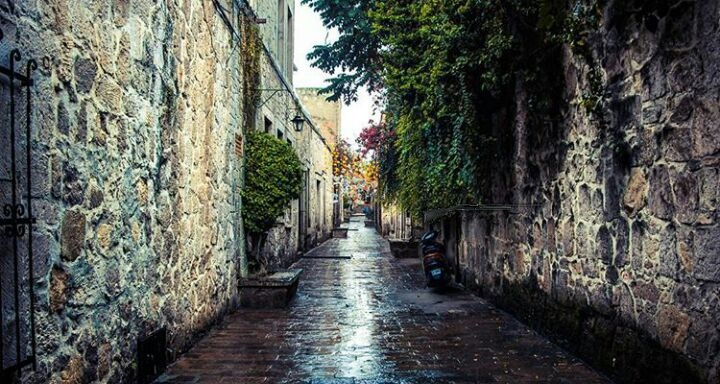escopeta.png: (419, 198, 548, 224)
